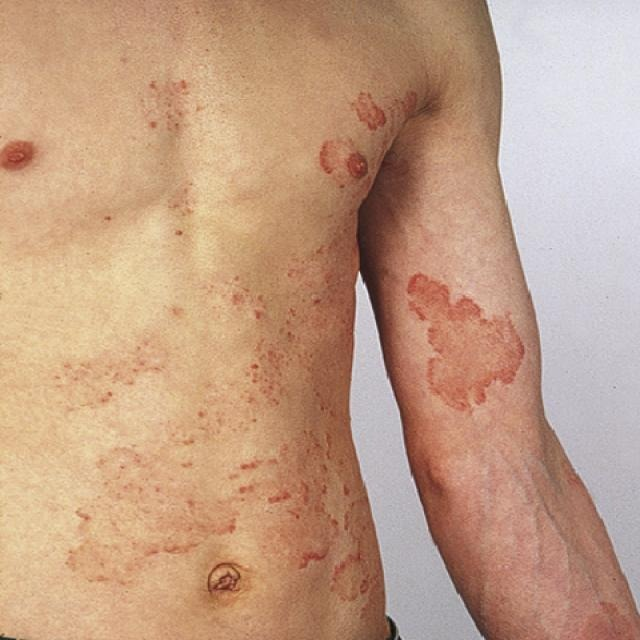Ringworm: (382, 247, 543, 430), (312, 110, 362, 188), (335, 88, 388, 145)
